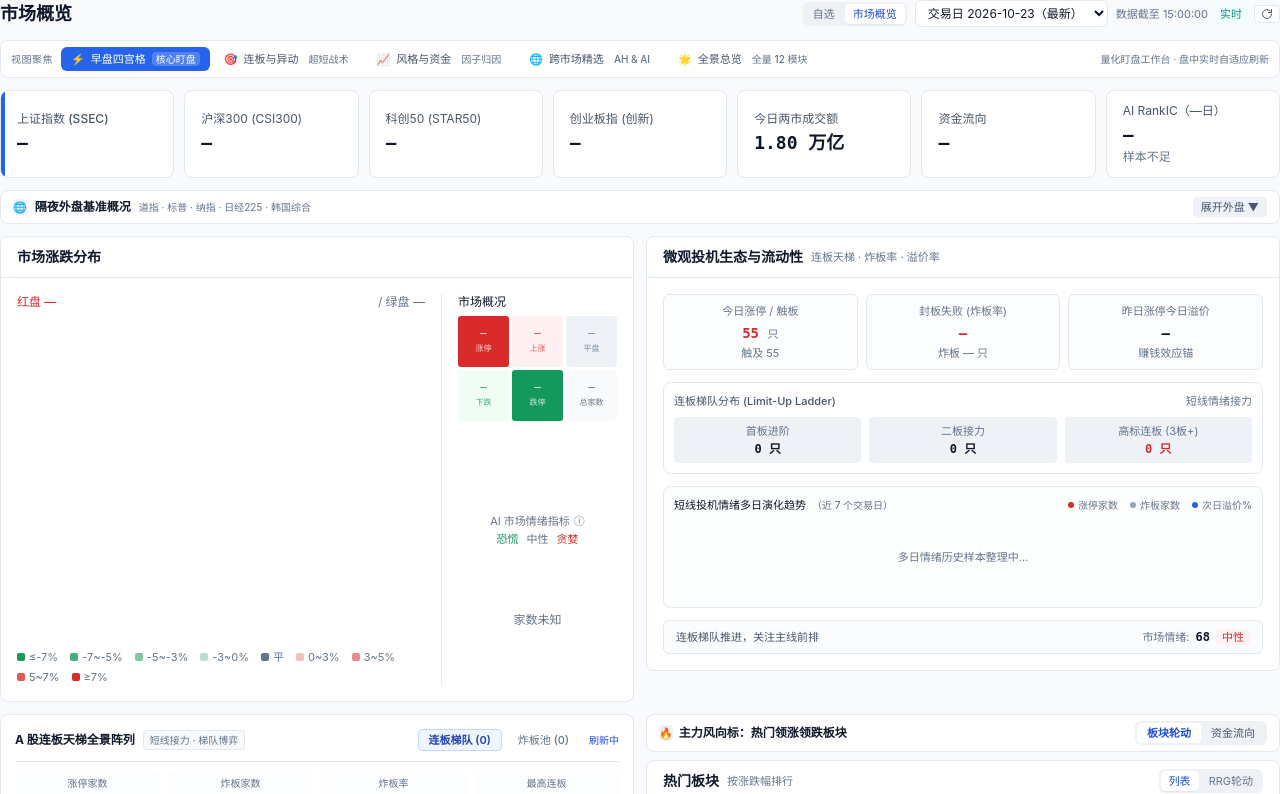
Test case: MarketOverview Distill 早盘四宫格与全景按需折叠 › 支持切换至全景总览，并在全景模式下提供一键全部收起/展开
 切换至全景总览
Click the button "🌟 全景总览 全量 12 模块" at (745, 59), box [668,47,822,71]
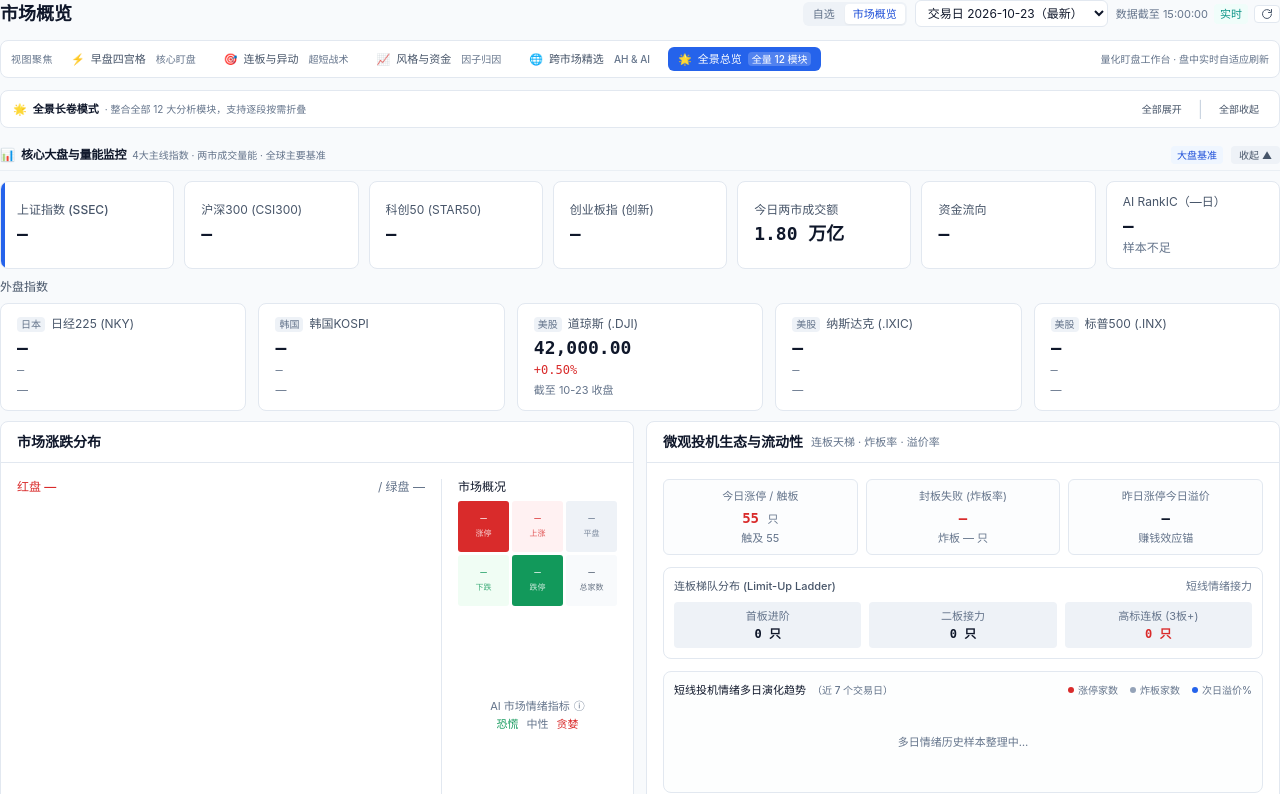
Check: the text "全景长卷模式" is shown, box [33,101,99,117]
Check: the button "全部收起" is shown, box [1211,100,1267,118]
Check: the button "全部展开" is shown, box [1134,100,1190,118]
